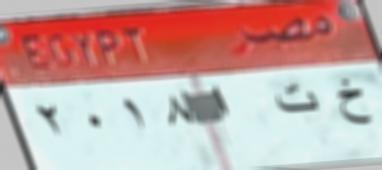0: (85, 102, 106, 138)
1: (119, 94, 150, 129)
2: (34, 102, 68, 137)
8: (159, 94, 190, 130)
alif: (208, 80, 236, 117)
khaa: (328, 73, 374, 132)
taa: (270, 78, 322, 119)
